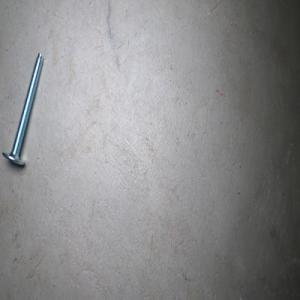Bolt: (1, 51, 44, 166)
